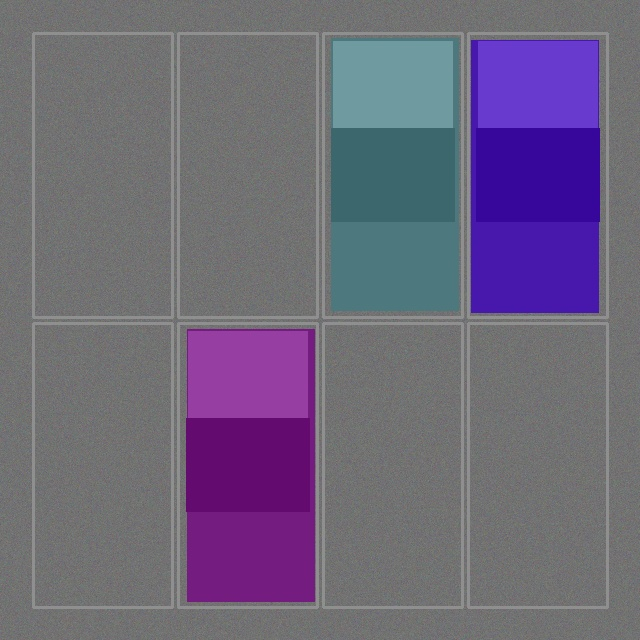space-empty: (35, 35, 170, 315), (180, 35, 315, 315), (35, 325, 170, 605), (325, 325, 460, 605), (470, 325, 605, 605)
space-occupied: (325, 35, 460, 315), (470, 35, 605, 315), (180, 325, 315, 605)
